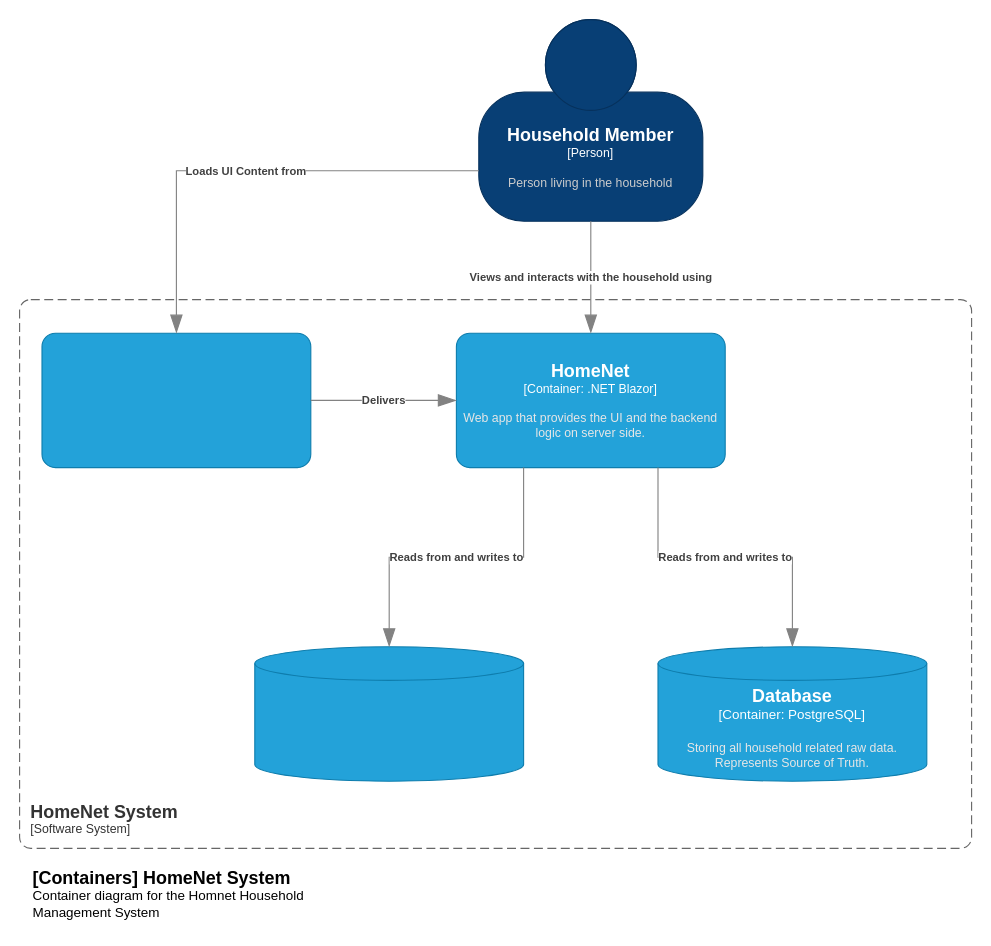
The diagram is 991 pixels wide and 946 high, and some of its shapes have lost their labels. The box of each missing label's shape, as (x1, y1, x2, y2) in pixels:
Cache [Container: Sqlite] Caching all computed Values, like Finance Timelines.: (254, 646, 524, 781)
Static Content [Container: Directory] HTML, CSS, JS, and other Static Files: (41, 332, 311, 468)
